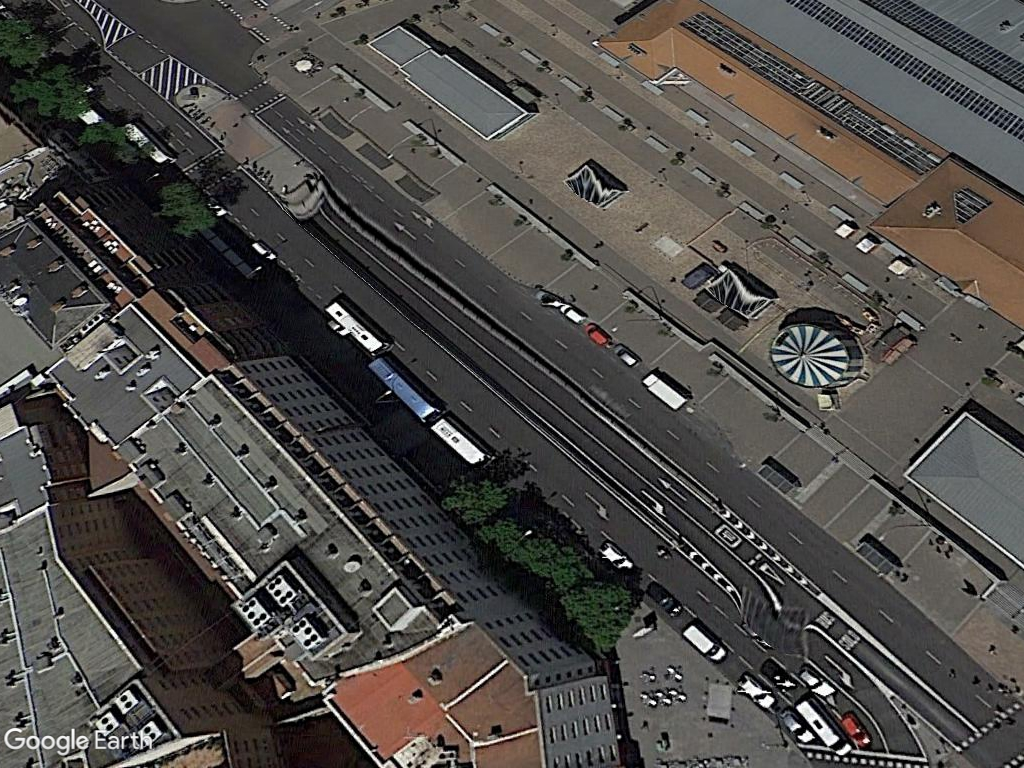bus: (363, 355, 447, 426), (320, 296, 392, 358)
truck: (641, 369, 691, 412)
van: (682, 617, 730, 667)
